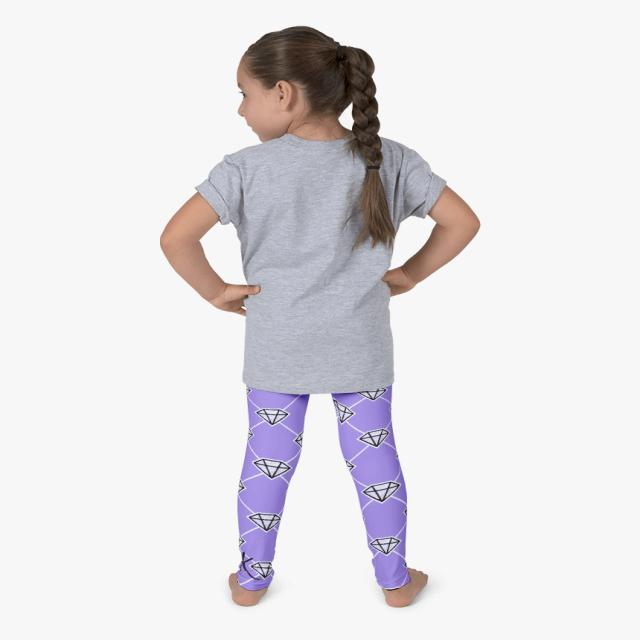child: (159, 24, 482, 606)
